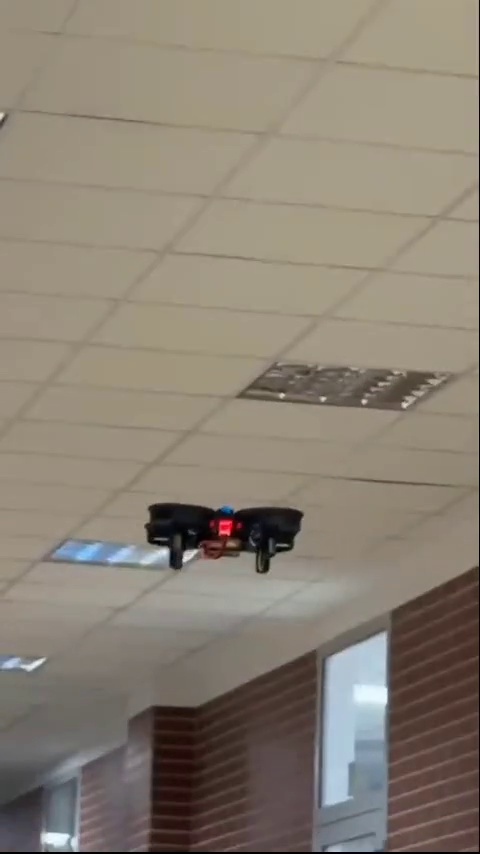drone: (149, 500, 303, 575)
